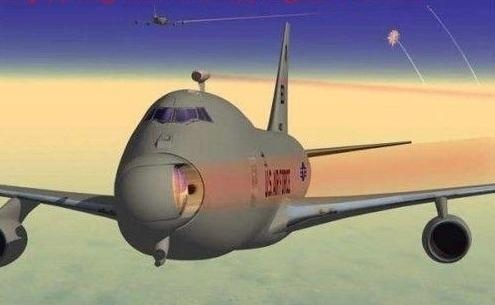airplane: (7, 22, 493, 277)
